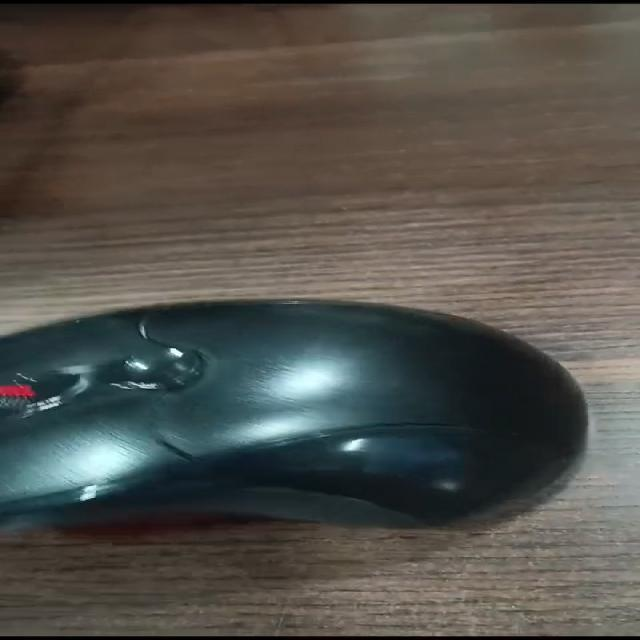Mouse: (6, 249, 616, 587)
